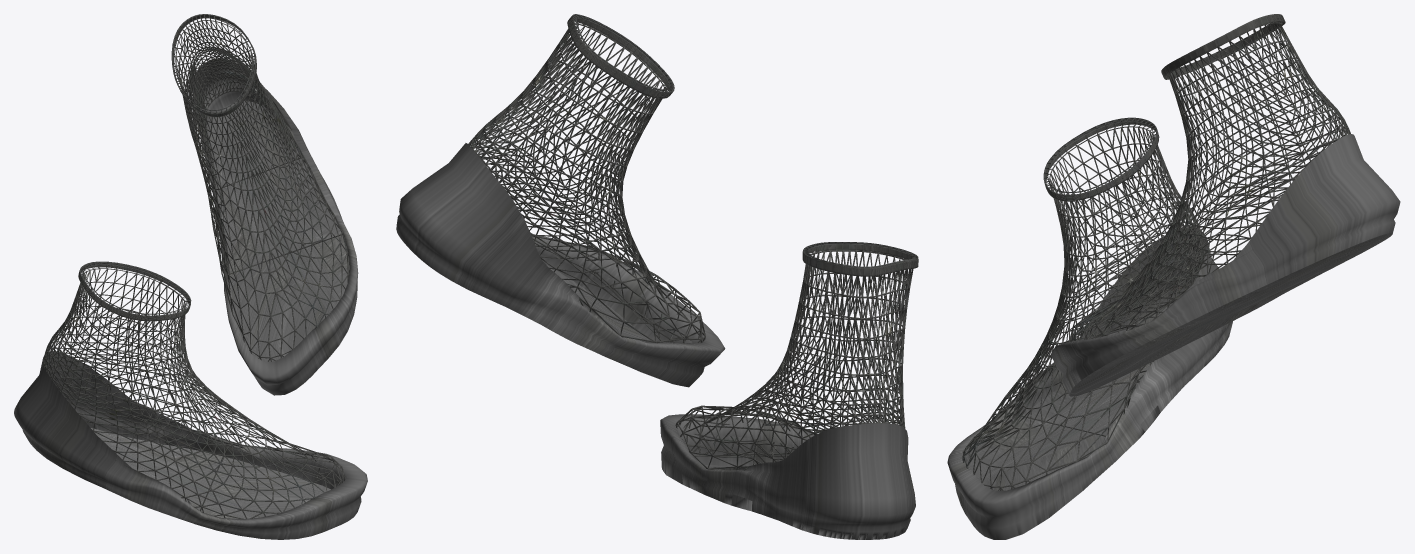
The model's file is boots.gltf.
3 views of the same model, side by side, from view 1: azimuth 30°, elevation 25°; view 2: azimuth 150°, elevation 25°; view 3: azimuth 270°, elevation 25° (orthographic). The views are drawn at different scales.
Parts seen in each view (by area): view 1: Cube_Cube.002, Cube_Cube.001, Cube_Cube.004, Cube_Cube.003; view 2: Cube_Cube.001, Cube_Cube.003, Cube_Cube.004, Cube_Cube.002; view 3: Cube_Cube.003, Cube_Cube.001, Cube_Cube.002, Cube_Cube.004.
Part boxes in pixels (x1=…): Cube_Cube.002: x1=14, y1=351, x2=367, y2=539; Cube_Cube.001: x1=193, y1=58, x2=358, y2=395; Cube_Cube.004: x1=43, y1=261, x2=345, y2=518; Cube_Cube.003: x1=171, y1=14, x2=349, y2=361; Cube_Cube.001: x1=396, y1=143, x2=725, y2=387; Cube_Cube.003: x1=468, y1=14, x2=705, y2=343; Cube_Cube.004: x1=675, y1=242, x2=918, y2=470; Cube_Cube.002: x1=660, y1=414, x2=915, y2=539; Cube_Cube.003: x1=1070, y1=14, x2=1350, y2=341; Cube_Cube.001: x1=1051, y1=134, x2=1400, y2=396; Cube_Cube.002: x1=947, y1=228, x2=1232, y2=539; Cube_Cube.004: x1=962, y1=117, x2=1206, y2=490.
Bounding box in the file's own units: 1.29 × 1.62 × 1.31.
Materials: 2 (2 with a texture image).
